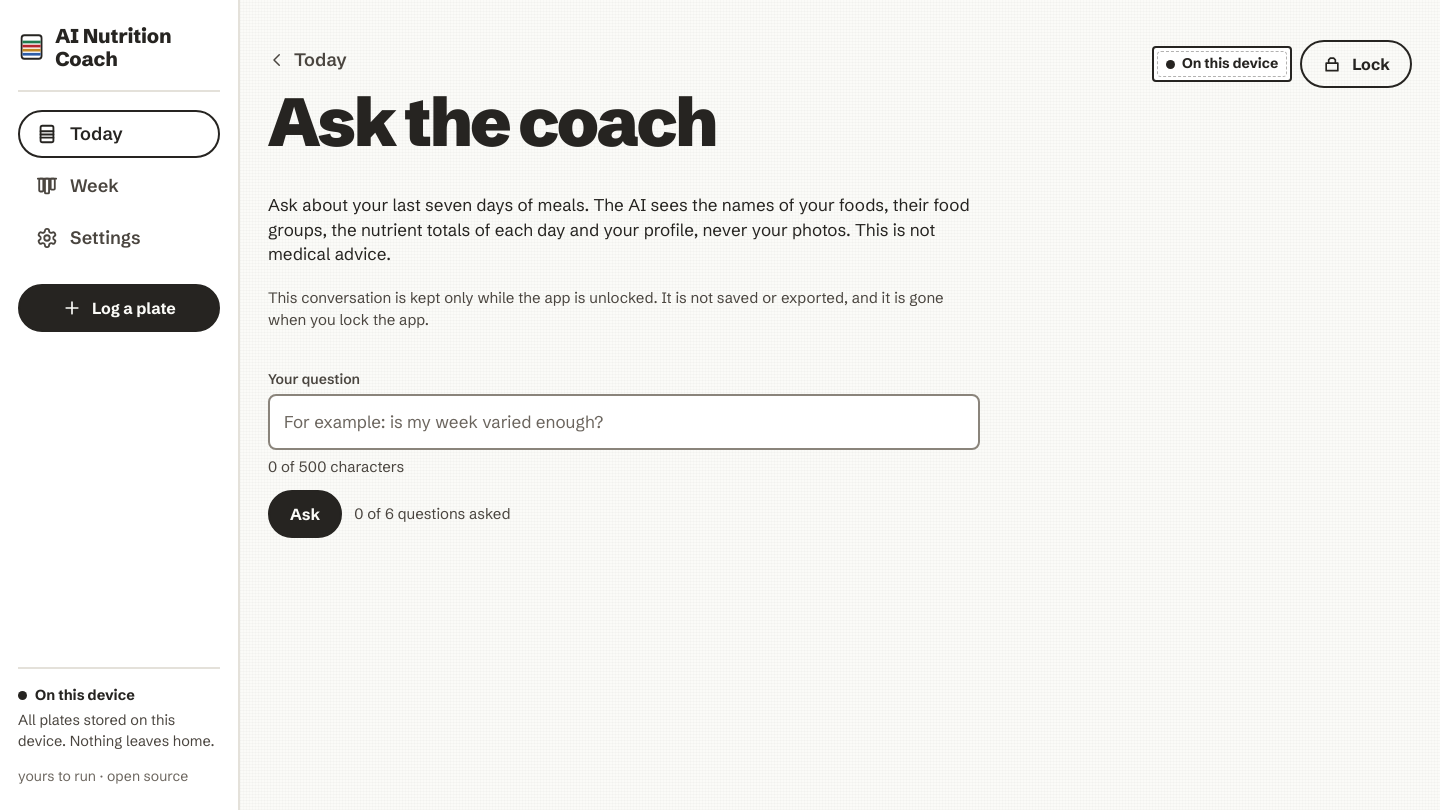
Test: Ask the coach: the chat › a possible emergency is answered with the emergency numbers, and nothing is sent
The width and height of the screenshot is (1440, 810).
Expected: the heading "Ask the coach" is shown, [268,92,715,153]
Type "I get chest pain after eating" into the field labelled "Your question" at x=624, y=422, box [270,396,978,448]
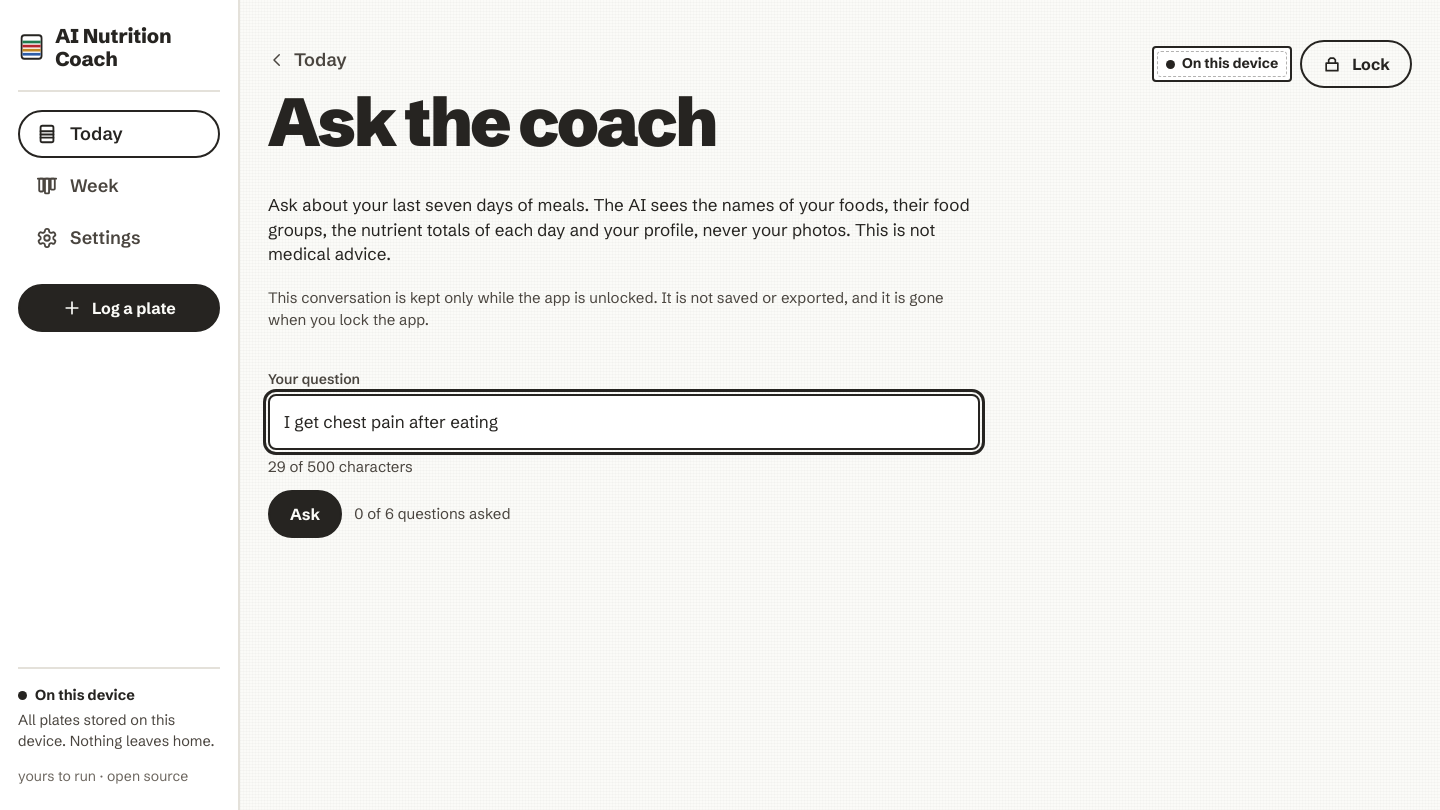
Click the button "Ask" at x=305, y=514, box [268,490,342,538]
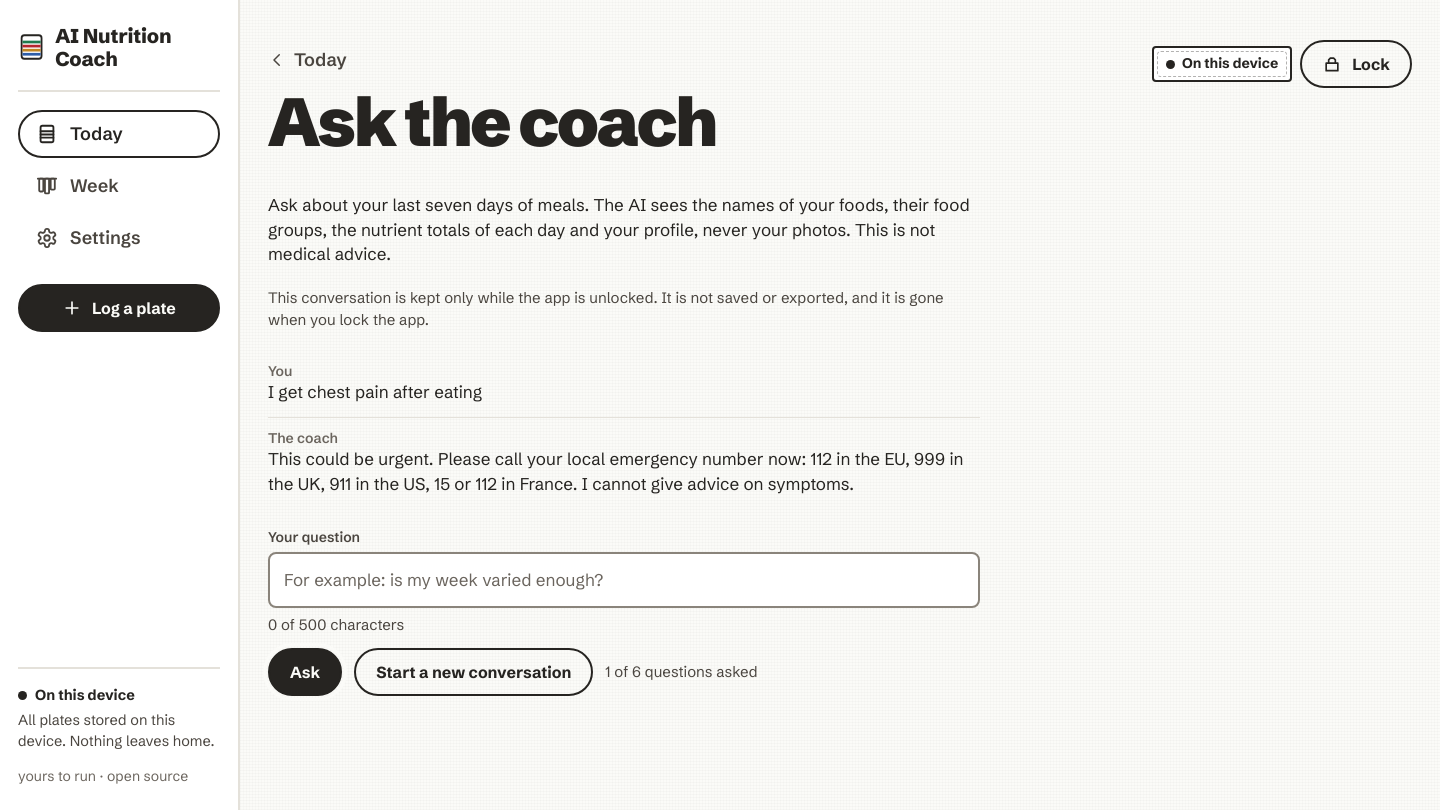
Expected: the text "call your local emergency number now" is shown, [268,448,964,494]
